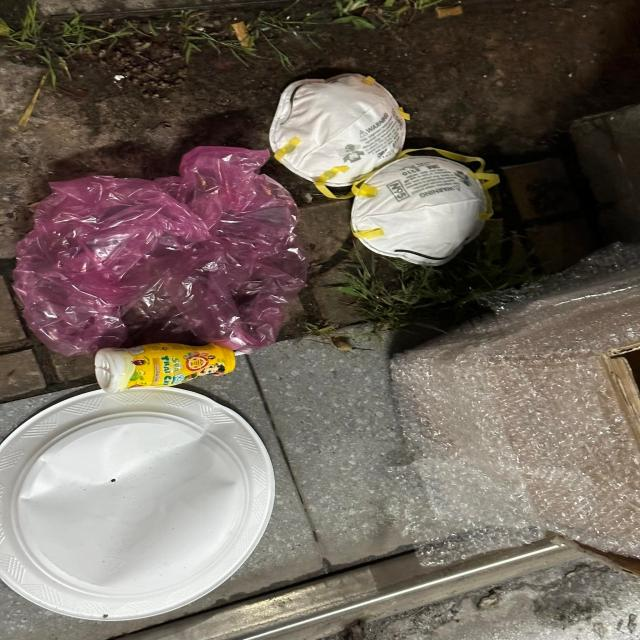bag: (17, 146, 304, 352)
bottle: (95, 345, 236, 394)
mask: (352, 146, 501, 267), (269, 73, 412, 199)
plastic holder: (0, 387, 274, 622)
